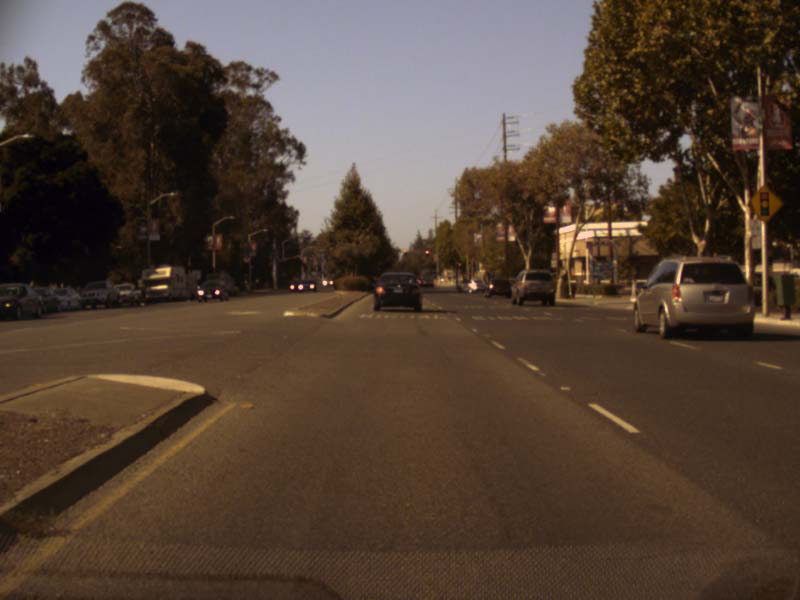Red: (425, 249, 429, 256)
Yellow: (456, 261, 461, 268), (403, 248, 407, 256)
